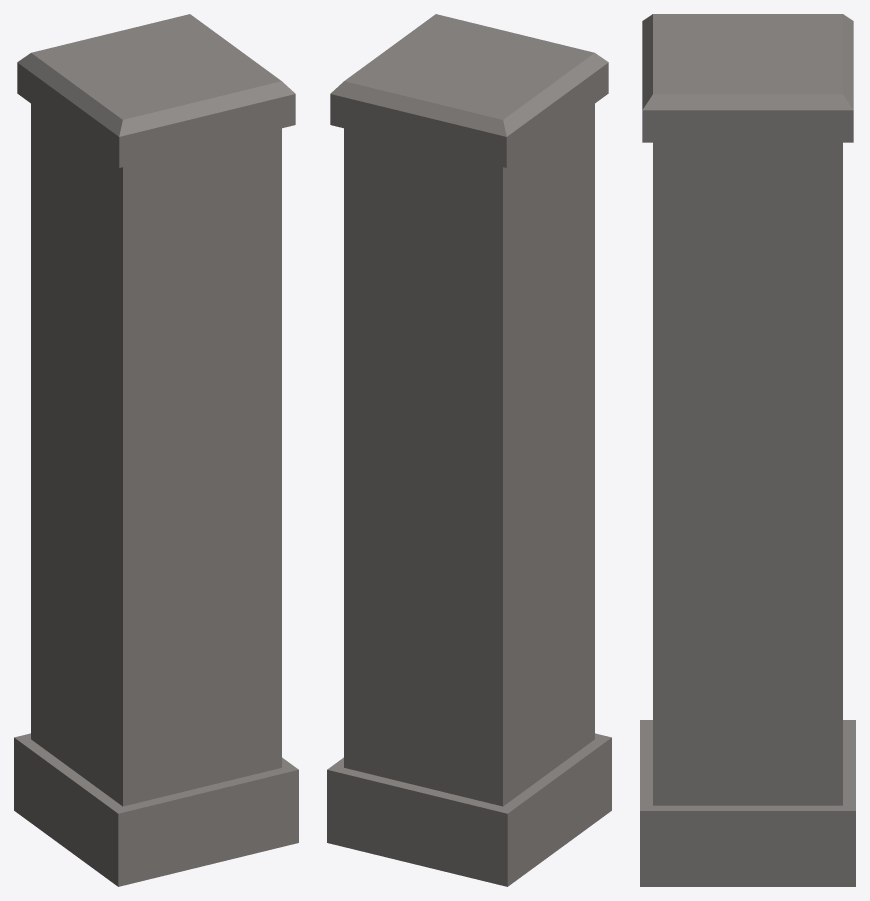
Rendered from Fence_04.glb.
The picture shows the model from 3 angles, left to right: view 1: azimuth 30°, elevation 25°; view 2: azimuth 150°, elevation 25°; view 3: azimuth 270°, elevation 25°; orthographic projection. The views are drawn at different scales.
Visible parts, largest first — view 1: Fence_04; view 2: Fence_04; view 3: Fence_04.
Boxes of the visible parts, <box> form: Fence_04: <box>14,14,298,886</box>; Fence_04: <box>327,14,611,886</box>; Fence_04: <box>640,14,855,886</box>.
Bounding box in the file's own units: 0.4543 × 1.83 × 0.4543.
1 material, 1 textured.
